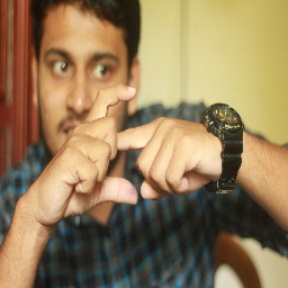E: (77, 81, 164, 215)
